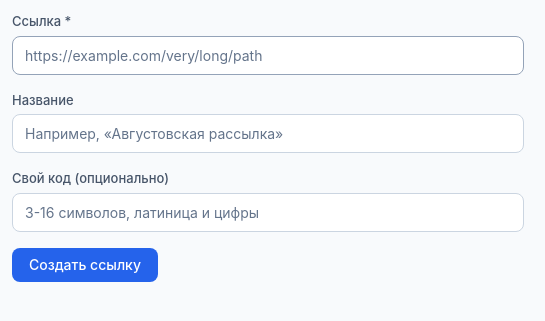
LinkForm › UNIT-FE-05: ответ 409 CODE_TAKEN показывает ошибку под полем alias без навигации
Type "https://example.com/a" into the field with test id "link-form-original-url-input". click: (268,55)
box: [12, 36, 524, 74]
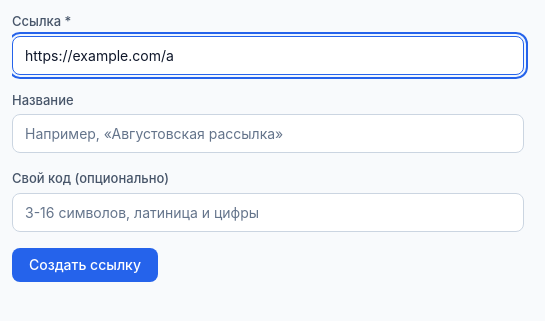
Type "promo" into the field with test id "link-form-custom-code-input". click: (268,212)
box: [12, 192, 524, 232]
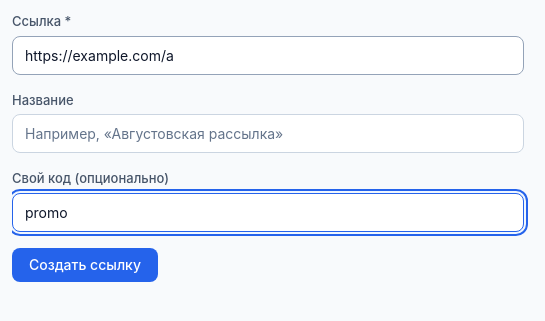
Click the button with test id "link-form-submit-button". click: (85,265)
box: [12, 248, 158, 282]
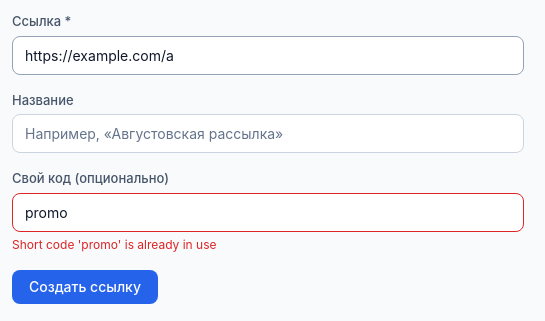
Now the text with test id "link-form-custom-code-error" reads "Short code 'promo' is already in use", box [12, 236, 216, 252]
